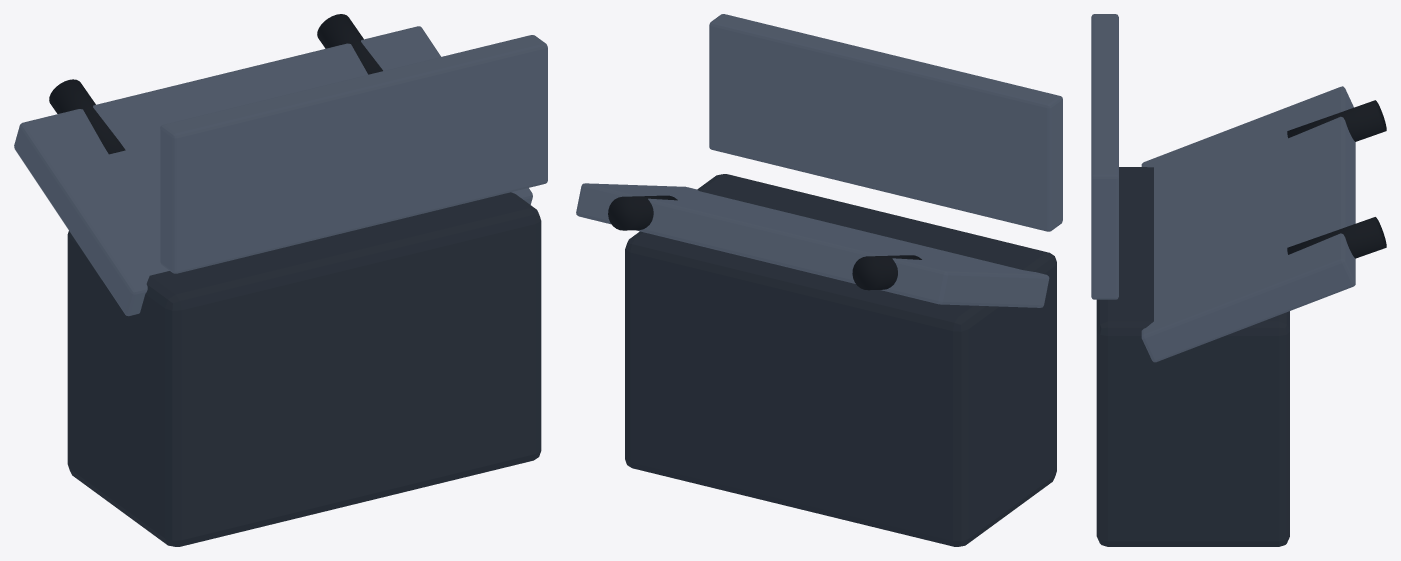
Rendered from volante.glb.
3 views of the same model, side by side, from view 1: azimuth 30°, elevation 25°; view 2: azimuth 150°, elevation 25°; view 3: azimuth 270°, elevation 25° (orthographic). The views are drawn at different scales.
Parts seen in each view (by area): view 1: Cube.096, Cube.099, Cube.097, Cylinder.061, Cylinder.060; view 2: Cube.096, Cube.099, Cube.097, Cylinder.060, Cylinder.061; view 3: Cube.096, Cube.097, Cube.099, Cylinder.061, Cylinder.060.
Boxes of the visible parts, <box> form: Cube.096: <box>67,192,541,546</box>; Cube.099: <box>160,35,547,273</box>; Cube.097: <box>14,26,532,316</box>; Cylinder.061: <box>49,79,125,154</box>; Cylinder.060: <box>317,14,382,74</box>; Cube.096: <box>625,174,1056,546</box>; Cube.099: <box>709,14,1062,231</box>; Cube.097: <box>576,183,1049,307</box>; Cylinder.060: <box>608,195,677,230</box>; Cylinder.061: <box>852,255,921,290</box>; Cube.096: <box>1096,167,1289,546</box>; Cube.097: <box>1141,86,1355,362</box>; Cube.099: <box>1091,14,1118,299</box>; Cylinder.061: <box>1287,100,1386,141</box>; Cylinder.060: <box>1287,217,1386,258</box>.
Bounding box in the file's own units: 1.5 × 1.5 × 1.07.
